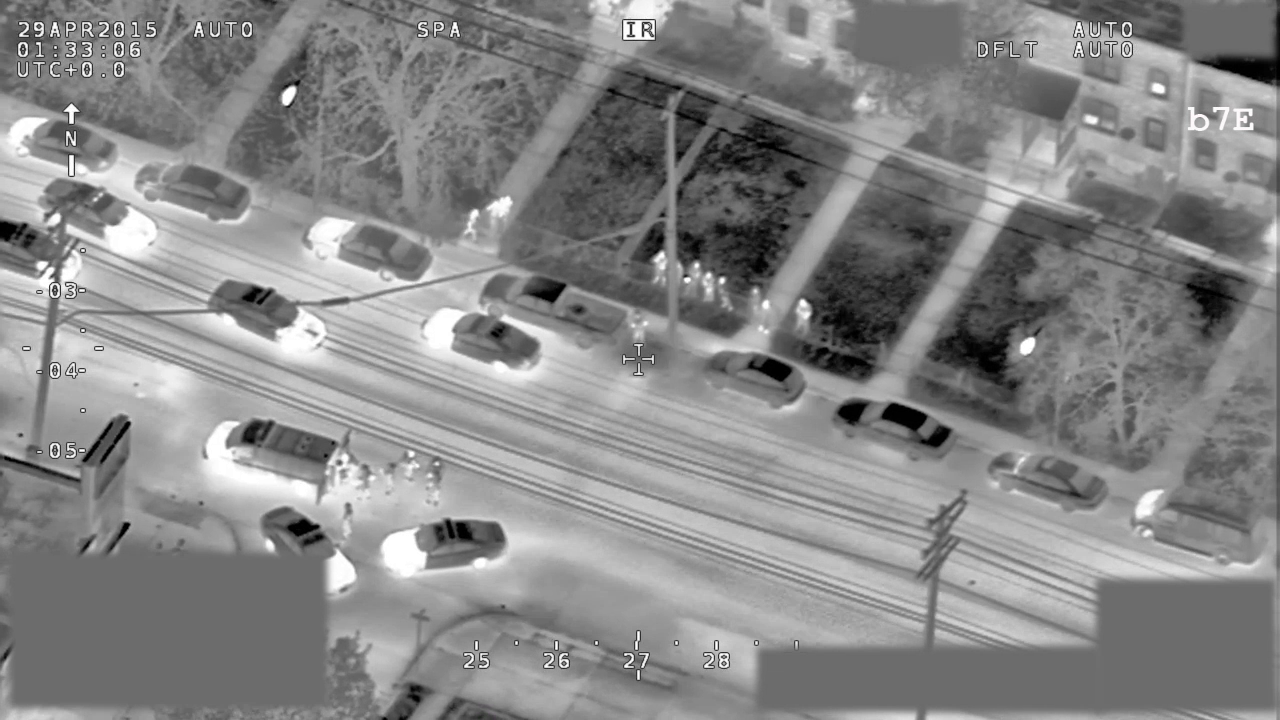vehicle: (194, 414, 359, 503), (477, 267, 628, 353), (1127, 481, 1271, 569), (203, 274, 329, 358), (257, 503, 360, 605), (299, 210, 435, 287), (36, 178, 162, 258), (828, 391, 958, 465), (985, 449, 1110, 519), (420, 304, 540, 376), (379, 515, 511, 580), (135, 154, 252, 226), (703, 341, 810, 413), (8, 112, 118, 181), (1, 216, 83, 291)
